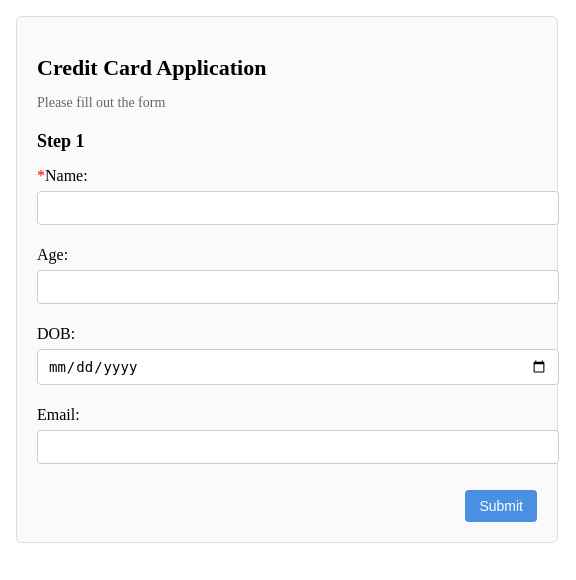
Scenario: FormStructure extra coverage › renders field validation error on empty submit
Click the button "Submit". click: [501, 506]
box: [465, 490, 537, 522]
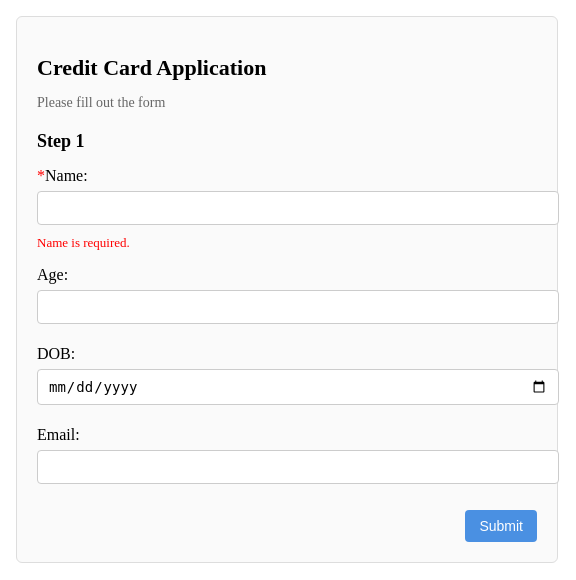
Expected: the text "Name is required." is shown, [37, 235, 130, 250]
